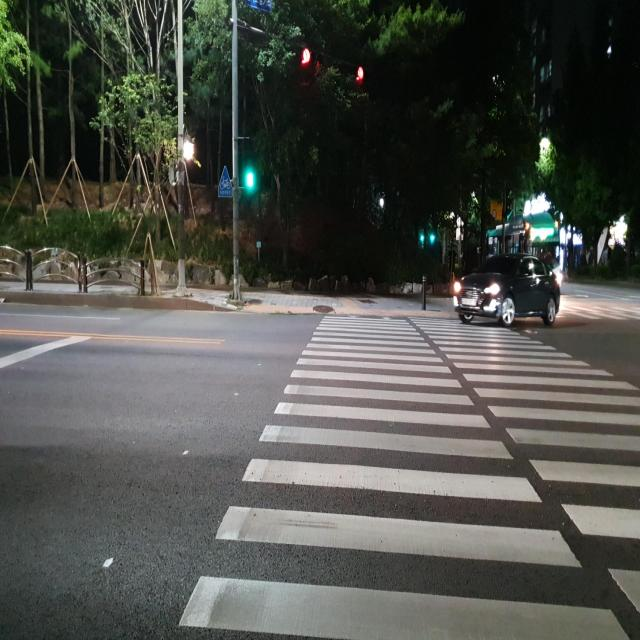초록불: (240, 138, 258, 197)
횡단보도: (177, 314, 640, 640)
